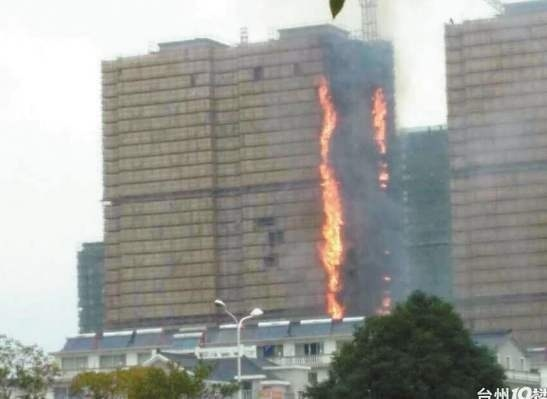fire: (312, 71, 353, 307)
